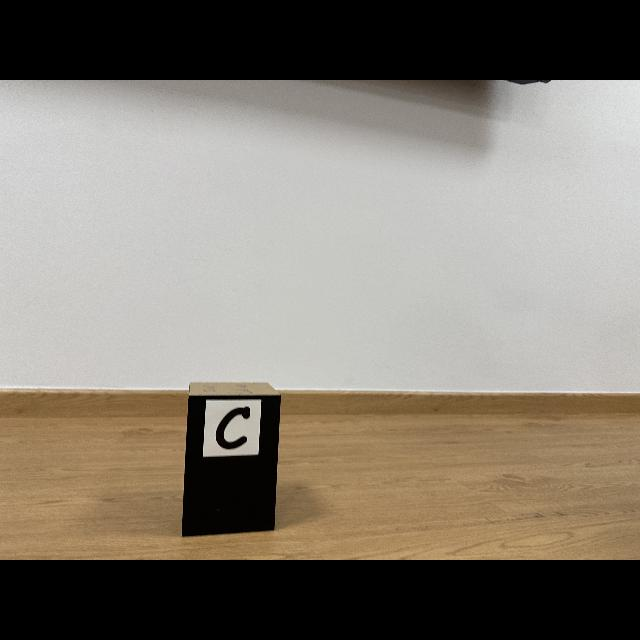C: (215, 406, 250, 449)
